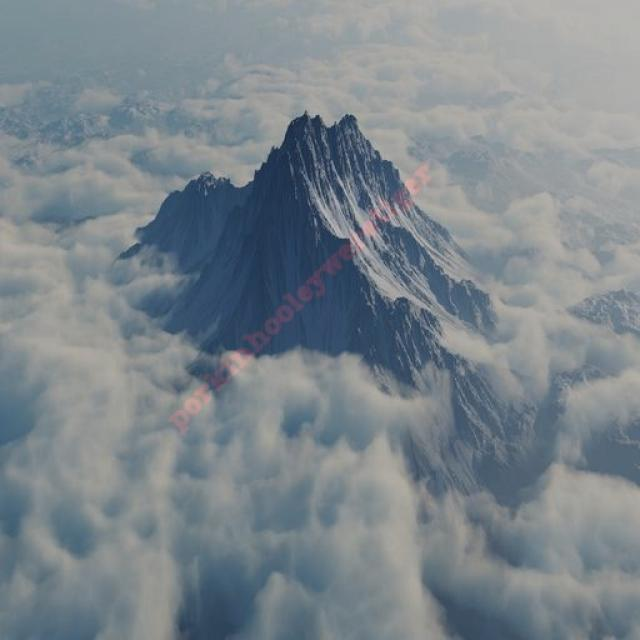watermark: (169, 150, 435, 434)
